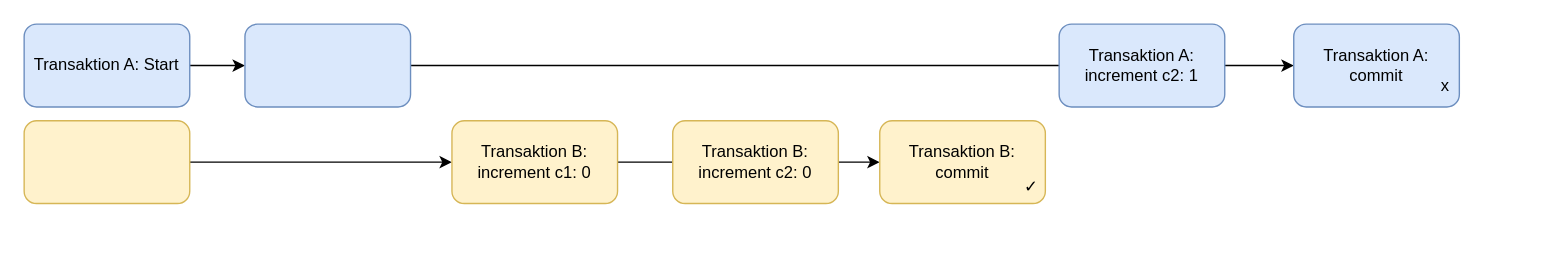
The diagram is 1566 pixels wide and 261 high, and some of its shapes have lost their labels. Here are the shapes that lost their labels. From the top down, the centre of each, then its label:
point (327, 65): Transaktion A: increment c1: 0
point (106, 161): Transaktion B: Start
